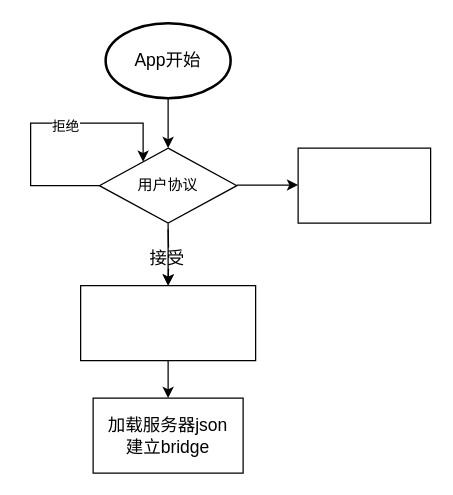
Some shapes in this 453 by 495 pixel diagram are drawn without their labels. The shapes that lost their labels are listed below. From the top down, each one's box as (x1, y1, x2, y2) in pixels, then its label:
(297, 147, 431, 223): 接入易盾、unisdk初始化、获取权限等
(79, 284, 256, 361): 创建 viewController 并显示
